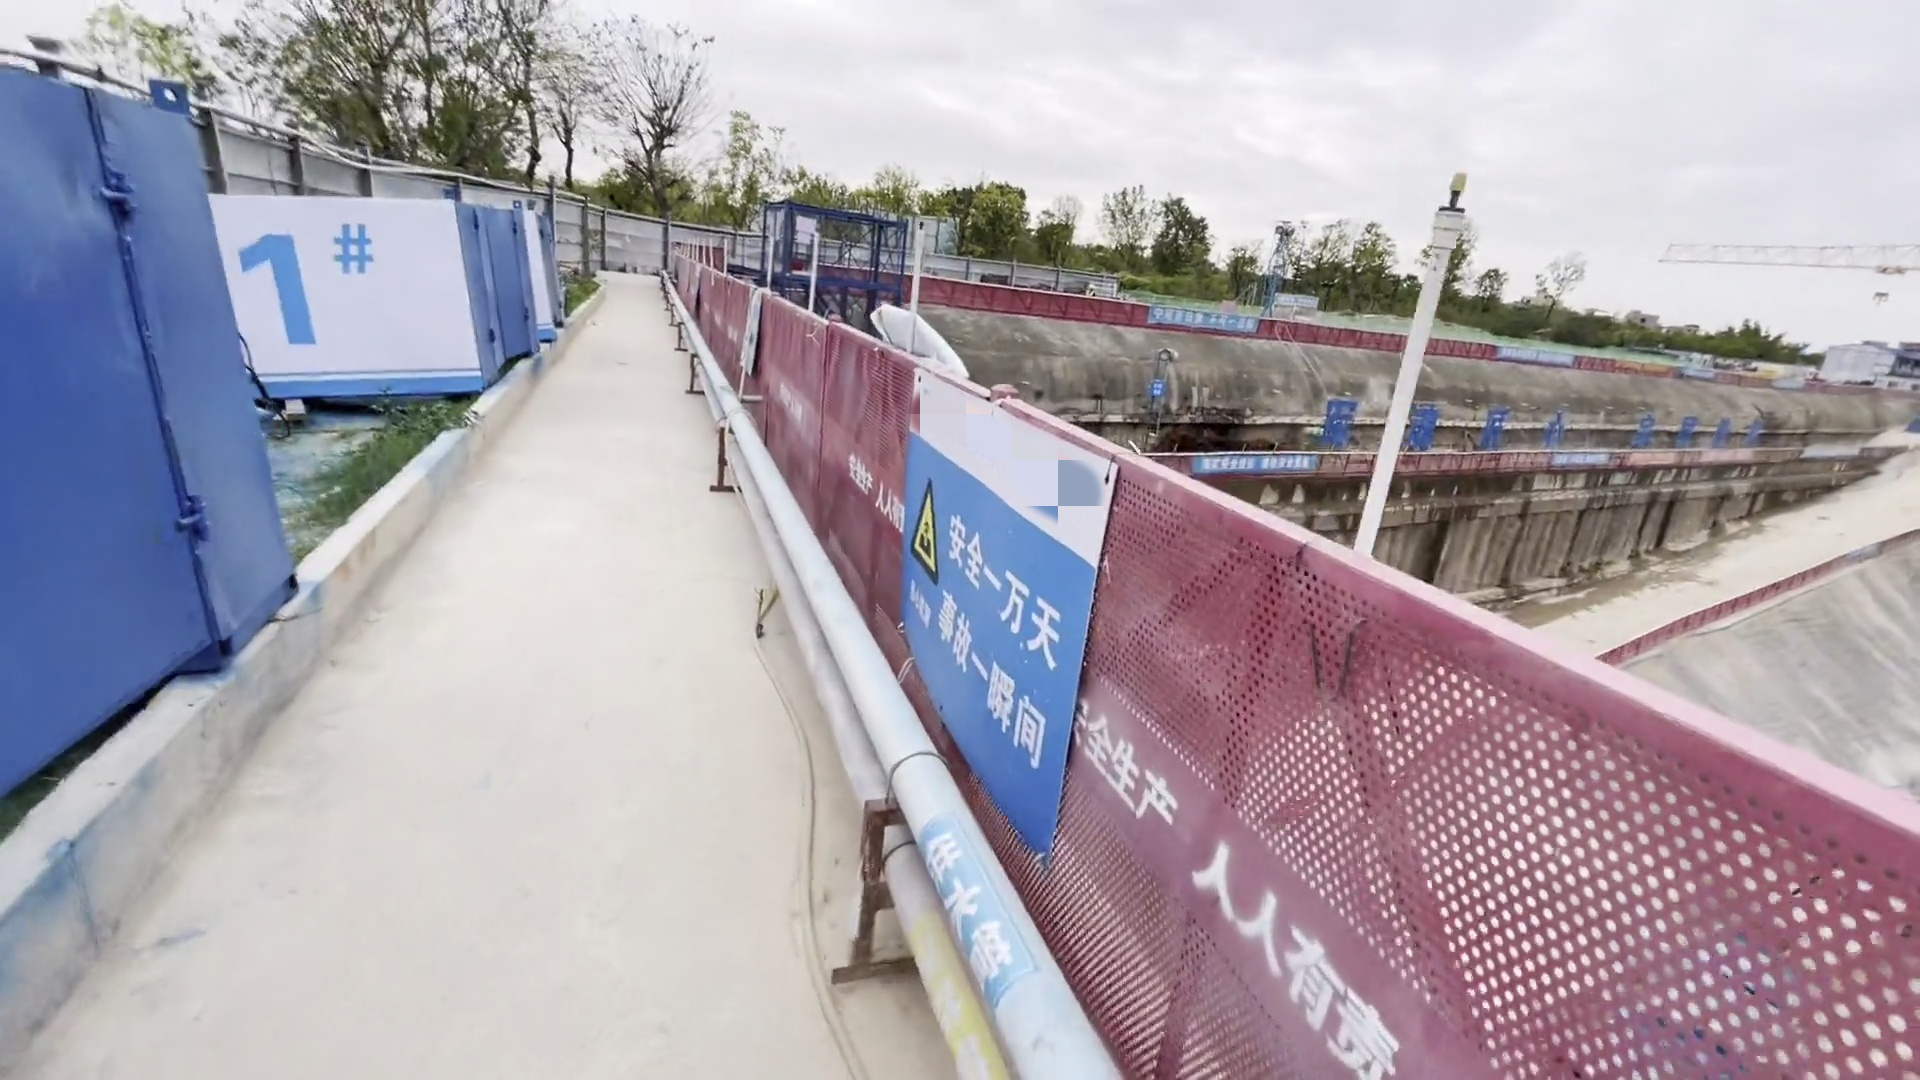fence: (764, 377, 1896, 1080)
slogan: (894, 385, 1113, 836)
